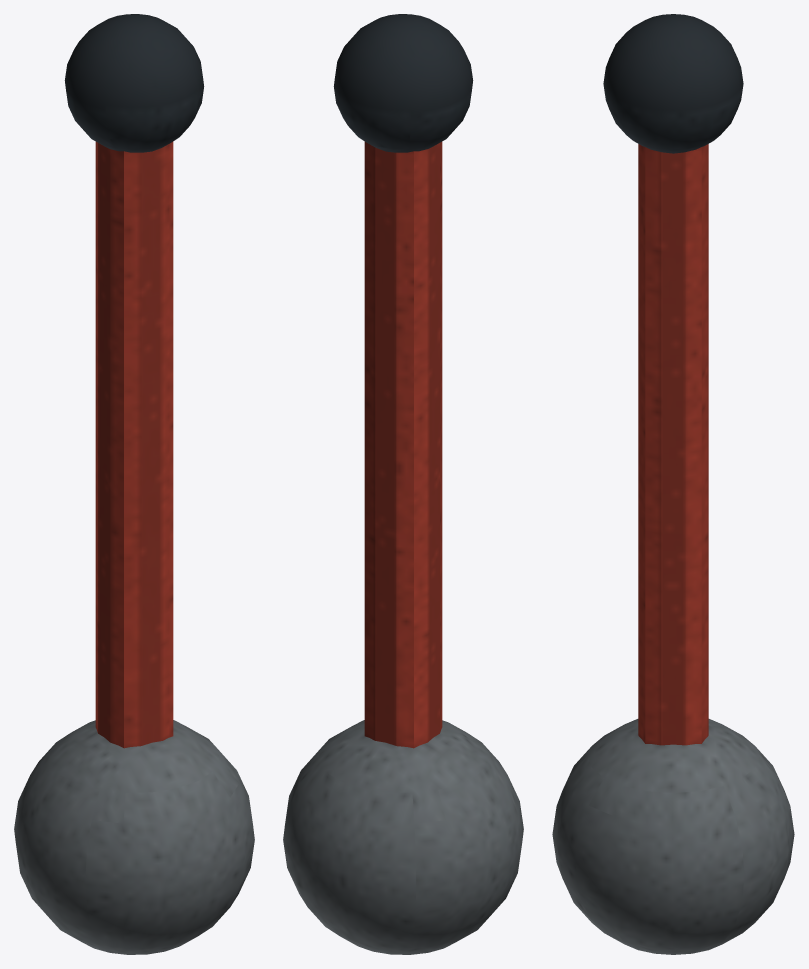
File: 2_arm2.obj
3 renders of one model, left to right at view 1: azimuth 30°, elevation 25°; view 2: azimuth 150°, elevation 25°; view 3: azimuth 270°, elevation 25°, orthographic.
Bounding box in the file's own units: 0.19 × 0.8 × 0.19.
Materials: 1 (1 with a texture image).
